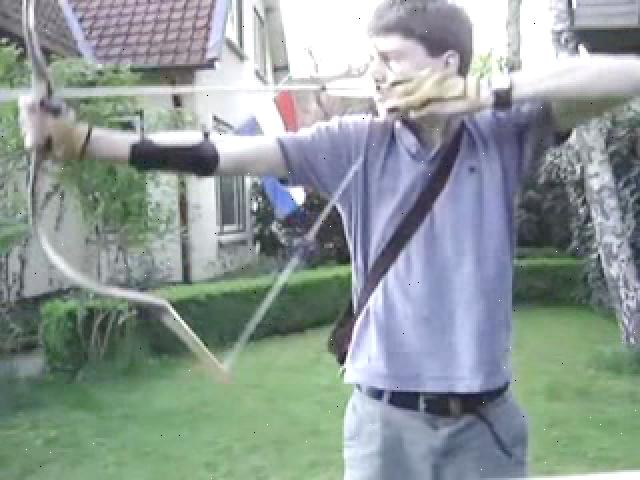P: (12, 2, 594, 480)
